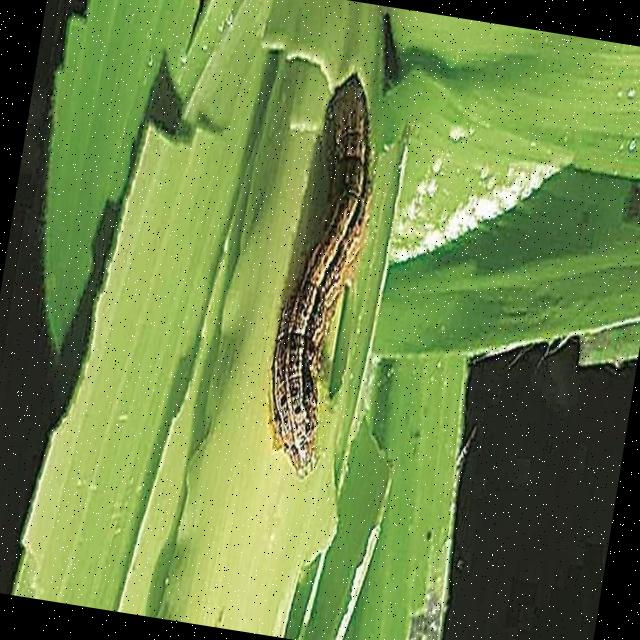worm: (255, 69, 396, 487)
